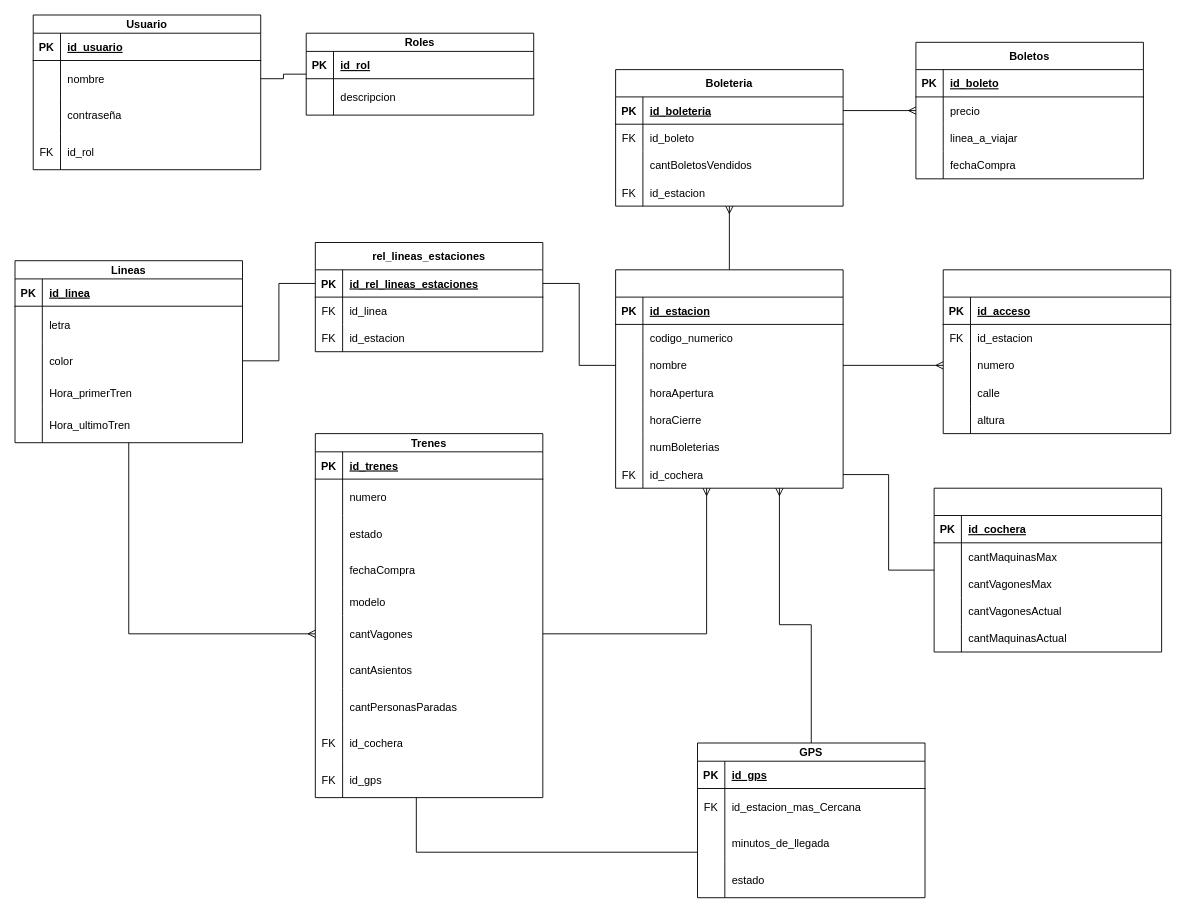
Image size: 1186x913. Some labels were removed from this diagram. Each missing label, with the box of its shape:
Accesos: (942, 269, 1171, 434)
Cocheras: (933, 487, 1162, 652)
Estaciones: (615, 269, 843, 488)
